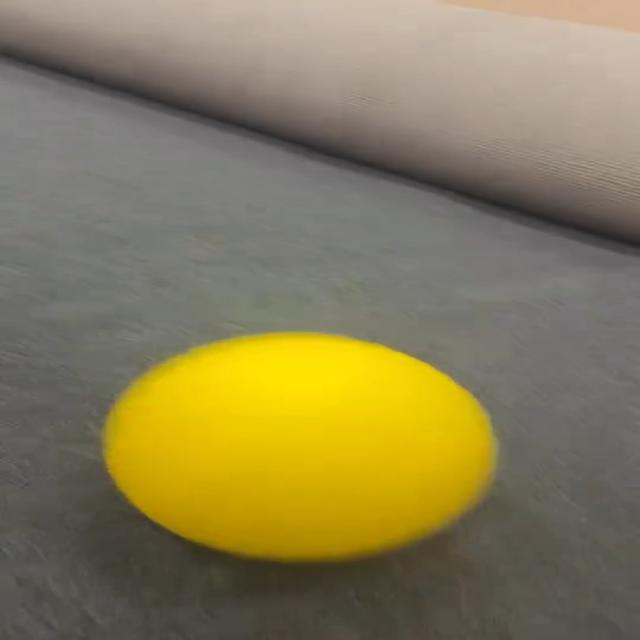Fuels: (103, 332, 497, 561)
